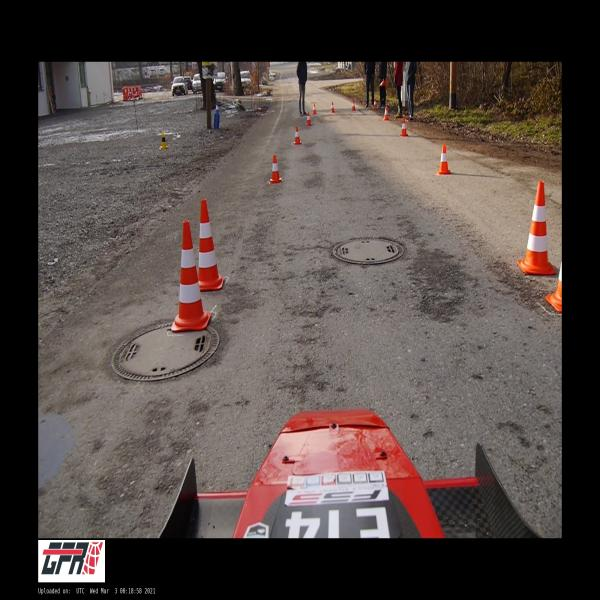blue_cone: (215, 102, 220, 114)
large_orange_cone: (171, 222, 211, 330), (518, 181, 556, 274), (198, 199, 224, 290)
orange_cone: (269, 155, 283, 183), (438, 144, 450, 174), (400, 118, 408, 136), (294, 127, 301, 144), (306, 112, 312, 126), (384, 107, 389, 120), (379, 78, 386, 87), (312, 104, 317, 114), (351, 100, 356, 110), (373, 99, 377, 109), (331, 102, 334, 112)
yellow_cone: (160, 132, 168, 148)
